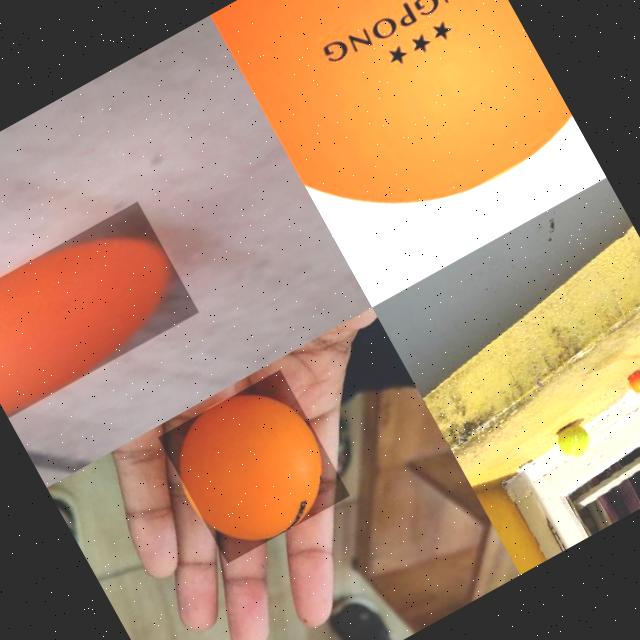ping-pong-ball: (211, 0, 580, 258), (0, 200, 200, 418), (157, 368, 350, 564), (626, 369, 640, 396)
